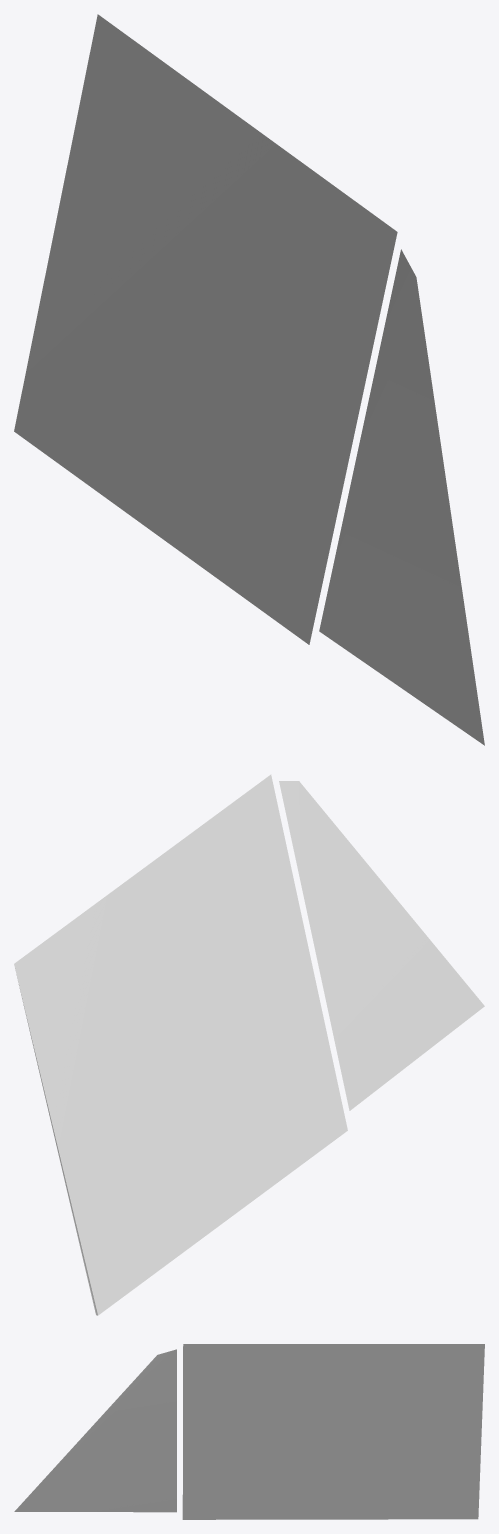
3 views of the same model, one above another, from view 1: azimuth 30°, elevation 25°; view 2: azimuth 150°, elevation 25°; view 3: azimuth 270°, elevation 25° (orthographic). The views are drawn at different scales.
Bounding box in the file's own units: 0.091 × 0.3714 × 0.8022.
1 material, 1 textured.
